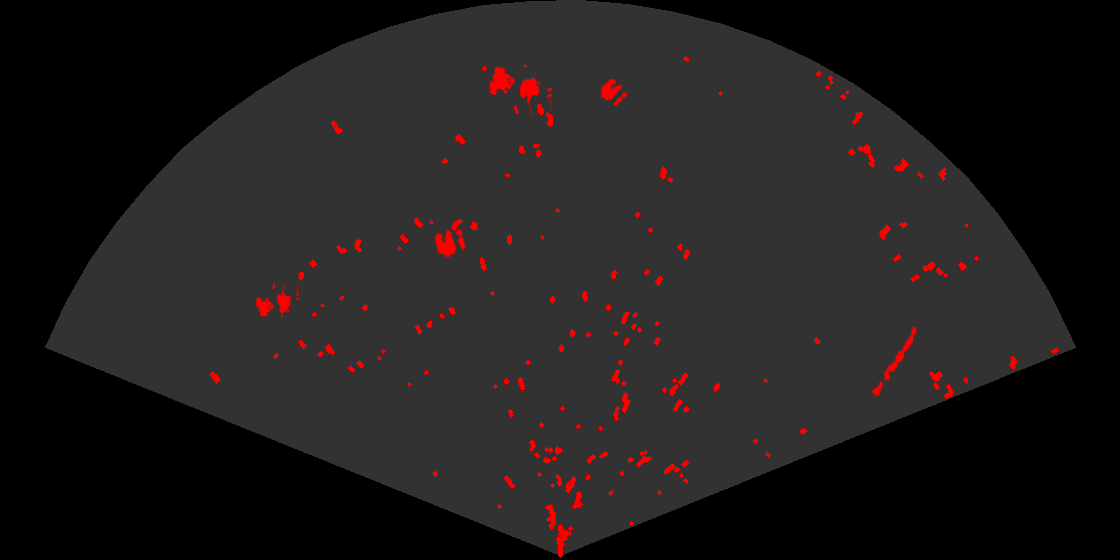ball: (433, 227, 467, 259), (599, 77, 629, 107)
cage: (487, 62, 552, 114), (254, 284, 299, 319)
chain: (865, 325, 919, 406)
